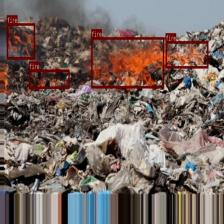fire: (91, 37, 164, 88), (165, 40, 208, 68), (6, 23, 34, 59), (29, 69, 69, 88)
